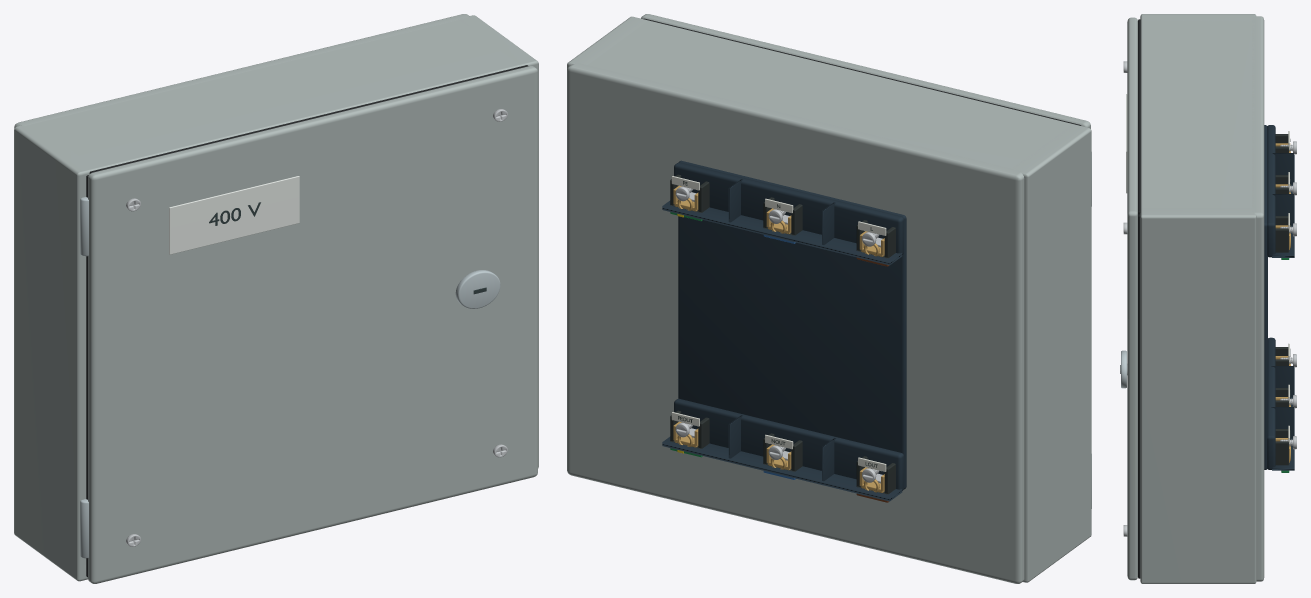
Rendered from panel_industrial-cabinet.glb.
The picture shows the model from 3 angles, left to right: view 1: azimuth 30°, elevation 25°; view 2: azimuth 150°, elevation 25°; view 3: azimuth 270°, elevation 25°; orthographic projection. The views are drawn at different scales.
Visible parts, largest first — view 1: part:cover · Powder coated cabinet steel, part:body · Powder coated cabinet steel, Danger label plate, detail:enclosure-gasket-and-fixings · Detail rubber gasket, Quarter-turn cabinet latch, part:cover · Machined steel; view 2: part:body · Powder coated cabinet steel, part:terminals.001 · Original a463fd81, part:cover · Powder coated cabinet steel, detail:enclosure-gasket-and-fixings · Detail rubber gasket; view 3: part:body · Powder coated cabinet steel, part:cover · Powder coated cabinet steel, part:terminals.001 · Original a463fd81, detail:enclosure-gasket-and-fixings · Detail rubber gasket, detail:terminal-clamp:PE · Detail moulded engineering polyme, detail:terminal-clamp:PEOUT · Detail moulded engineering pol.
Part boxes in pixels (left/top/right/bottom): part:cover · Powder coated cabinet steel: left=88, top=66, right=537, bottom=583; part:body · Powder coated cabinet steel: left=14, top=14, right=538, bottom=581; Danger label plate: left=169, top=176, right=299, bottom=254; detail:enclosure-gasket-and-fixings · Detail rubber gasket: left=86, top=65, right=528, bottom=577; Quarter-turn cabinet latch: left=455, top=270, right=500, bottom=308; part:cover · Machined steel: left=80, top=197, right=88, bottom=558; part:body · Powder coated cabinet steel: left=567, top=16, right=1091, bottom=583; part:terminals.001 · Original a463fd81: left=662, top=160, right=906, bottom=501; part:cover · Powder coated cabinet steel: left=641, top=14, right=1090, bottom=128; detail:enclosure-gasket-and-fixings · Detail rubber gasket: left=643, top=18, right=1081, bottom=125; part:body · Powder coated cabinet steel: left=1140, top=14, right=1264, bottom=583; part:cover · Powder coated cabinet steel: left=1127, top=17, right=1137, bottom=580; part:terminals.001 · Original a463fd81: left=1264, top=125, right=1294, bottom=470; detail:enclosure-gasket-and-fixings · Detail rubber gasket: left=1138, top=19, right=1140, bottom=578; detail:terminal-clamp:PE · Detail moulded engineering polyme: left=1275, top=216, right=1289, bottom=252; detail:terminal-clamp:PEOUT · Detail moulded engineering pol: left=1275, top=429, right=1289, bottom=465.
Bounding box in the file's own units: 1.91 × 1.61 × 0.7013.
